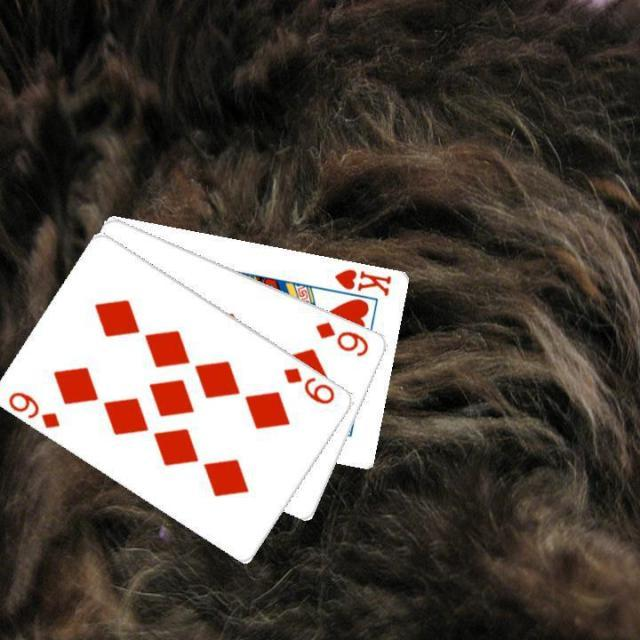6D: (312, 317, 372, 358)
9D: (280, 363, 338, 406), (5, 388, 62, 430)
KH: (331, 264, 394, 298)
